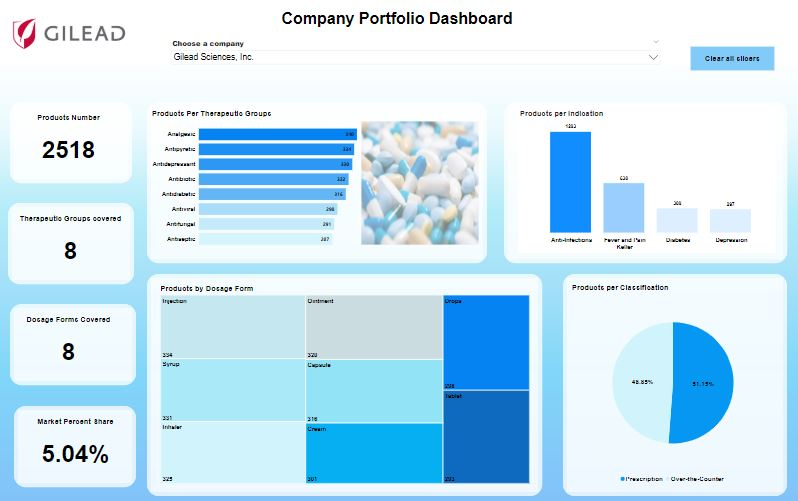

The dashboard page shown, as its layout file describes it:
{"tool":"powerbi","page":{"name":"Page 3","canvas":[2000,1280],"ordinal":0},"visuals":[{"type":"actionButton","box":[0,0,2000,1280],"z":0},{"type":"actionButton","box":[370,262.5,850,402.5],"z":3000},{"type":"barChart","title":"Products Per Therapeutic Groups","fields":{"Category":["medicine_dataset.Category"],"Y":["CountNonNull(medicine_dataset.Name)"]},"box":[377.5,280,550,360],"z":4000},{"type":"actionButton","box":[900,305,305,320],"z":5000},{"type":"actionButton","box":[370,692.5,987.5,555],"z":6000},{"type":"treemap","title":"Products by Dosage Form","fields":{"Values":["CountNonNull(medicine_dataset.Name)"],"Group":["medicine_dataset.Dosage Form"]},"box":[395,715,940,510],"z":7000},{"type":"actionButton","box":[1410,692.5,560,555],"z":8000},{"type":"pieChart","title":"Products per  Classification","fields":{"Category":["medicine_dataset.Classification"],"Y":["CountNonNull(medicine_dataset.Name)"]},"box":[1427.5,715,515,510],"z":9000},{"type":"actionButton","box":[1262.5,262.5,707.5,402.5],"z":10000},{"type":"clusteredColumnChart","title":"Products per Indication","fields":{"Category":["medicine_dataset.Indication 2"],"Y":["CountNonNull(medicine_dataset.Name)"]},"box":[1297.5,280,645,360],"z":11000},{"type":"actionButton","box":[22.5,515,315,202.5],"z":12000},{"type":"actionButton","box":[27.5,262.5,305,202.5],"z":13000},{"type":"actionButton","box":[27.5,767.5,315,202.5],"z":14000},{"type":"actionButton","box":[37.5,1022.5,305,202.5],"z":15000},{"type":"card","title":"Products Number","fields":{"Values":["_calculation.Products"]},"box":[37.5,290,272.5,150],"z":16000},{"type":"card","title":"Products Percent Share","fields":{"Values":["_calculation.Percent"]},"box":[55,1050,272.5,150],"z":17000},{"type":"card","title":"Therapeutic Groups covered","fields":{"Values":["Count(medicine_dataset.Category)"]},"box":[42.5,542.5,272.5,150],"z":18000},{"type":"card","title":"Dosage Forms Covered","fields":{"Values":["Count(medicine_dataset.Dosage Form)"]},"box":[37.5,795,272.5,150],"z":19000},{"type":"actionButton","box":[1725,120,217.5,67.5],"z":20000},{"type":"slicer","fields":{"Values":["medicine_dataset - Copy.Manufacturer"]},"box":[415,92.5,1252.5,112.5],"z":20001},{"type":"cardVisual","fields":{"Data":["Min(medicine_dataset - Copy.Manufacturer)"]},"box":[12.5,0,330,187.5],"z":20002},{"type":"actionButton","box":[562.5,7.5,865,92.5],"z":20003}]}

Visuals, with their boxes in screenshot pixels (x1, y1, x2, y2), scaled from the page's 2000x1280 canvas onto the 798x501 screenshot:
actionButton: 0,0,797,500
actionButton: 148,103,487,260
"Products Per Therapeutic Groups" barChart: 151,110,370,250
actionButton: 359,119,481,245
actionButton: 148,271,542,488
"Products by Dosage Form" treemap: 158,280,533,479
actionButton: 563,271,786,488
"Products per  Classification" pieChart: 570,280,775,479
actionButton: 504,103,786,260
"Products per Indication" clusteredColumnChart: 518,110,775,250
actionButton: 9,202,135,281
actionButton: 11,103,133,182
actionButton: 11,300,137,380
actionButton: 15,400,137,479
"Products Number" card: 15,114,124,172
"Products Percent Share" card: 22,411,131,470
"Therapeutic Groups covered" card: 17,212,126,271
"Dosage Forms Covered" card: 15,311,124,370
actionButton: 688,47,775,73
slicer - medicine_dataset - Copy.Manufacturer: 166,36,665,80
cardVisual - Min(medicine_dataset - Copy.Manufacturer): 5,0,137,73
actionButton: 224,3,570,39
